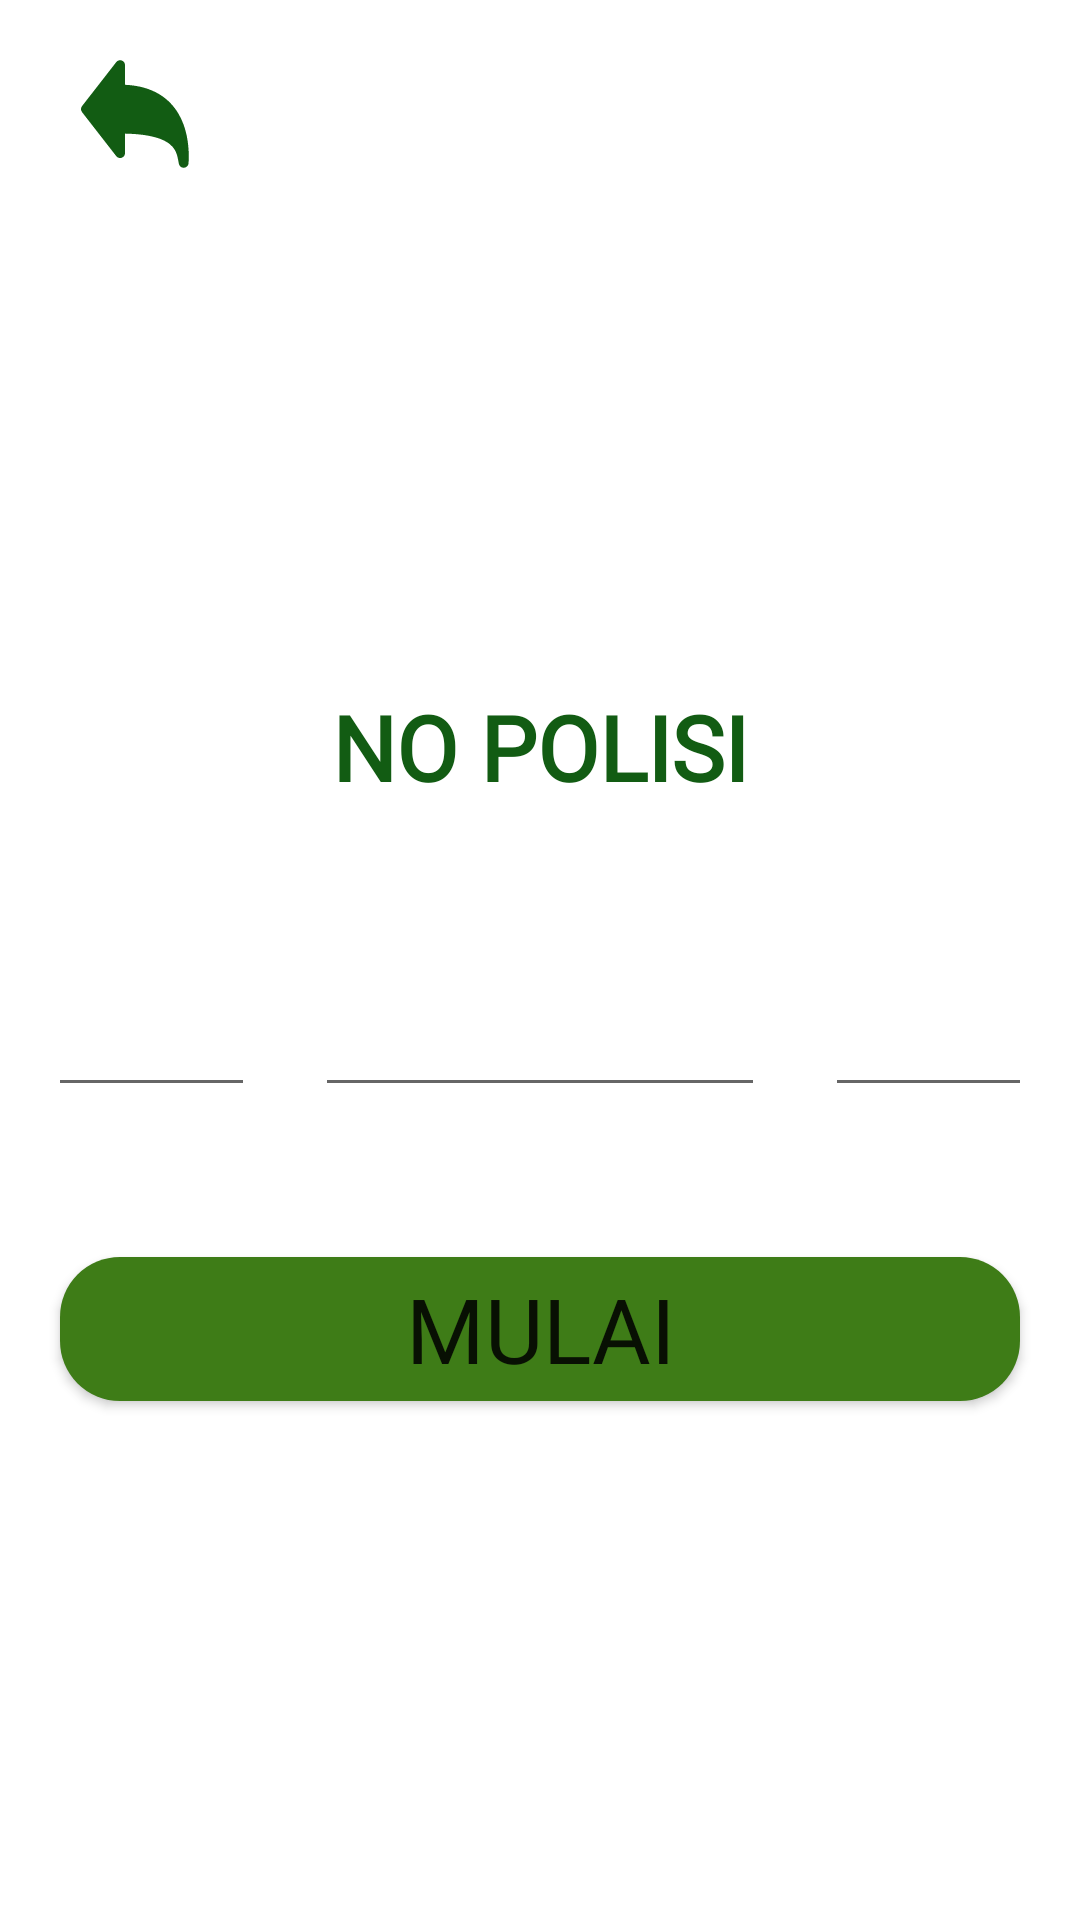

Screen size 1080 x 1920. Icon name, then its box in pixels as bbox=(x1, y1, x2, y2):
backbutton: bbox=(81, 60, 189, 168)
